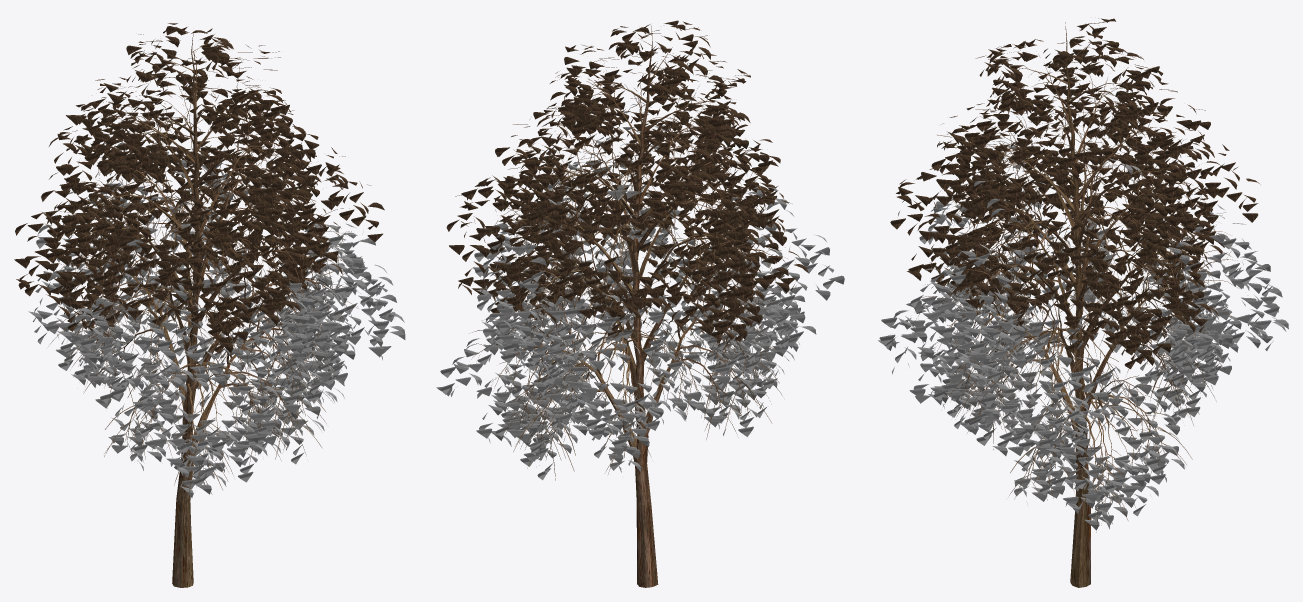
File: Tree1.gltf
3 views of the same model, side by side, from view 1: azimuth 30°, elevation 25°; view 2: azimuth 150°, elevation 25°; view 3: azimuth 270°, elevation 25° (orthographic).
Parts seen in each view (by area): view 1: sub01, sub02; view 2: sub01, sub02; view 3: sub01, sub02.
Part boxes in pixels (x1,y1,x2,y2): sub01: [14, 23, 384, 587]; sub02: [28, 136, 405, 497]; sub01: [446, 20, 808, 587]; sub02: [436, 104, 844, 480]; sub01: [890, 18, 1260, 587]; sub02: [878, 134, 1288, 530].
Bounding box in the file's own units: 10.14 × 15.83 × 10.45.
